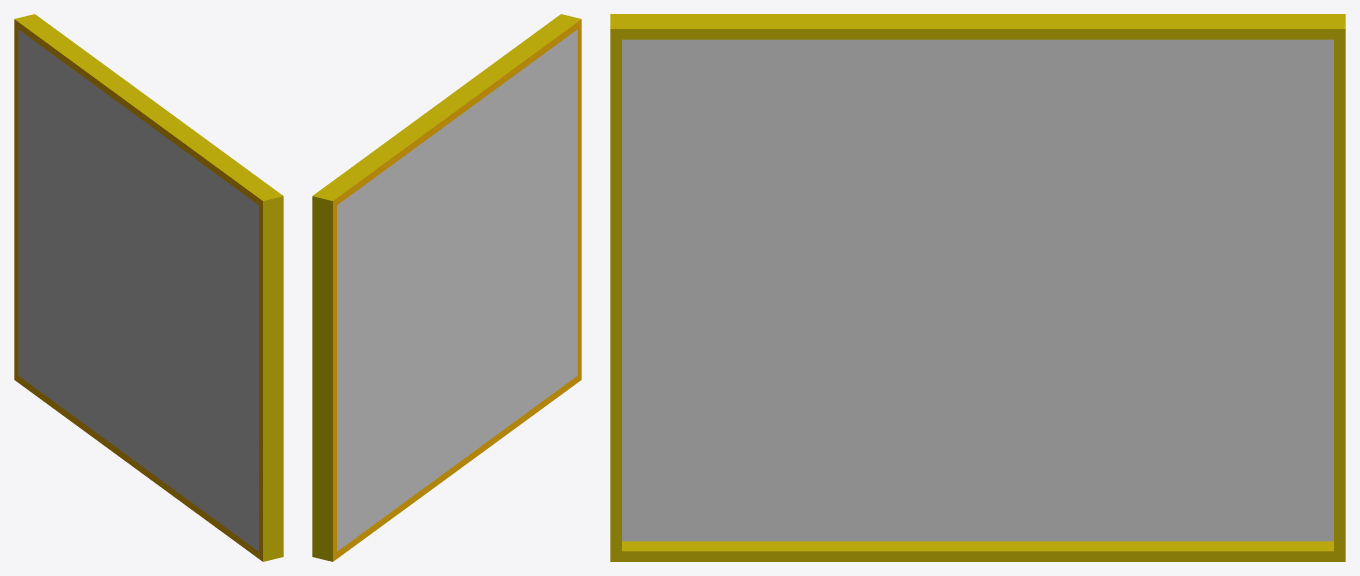
File: window_5x4.dae
3 renders of one model, left to right at view 1: azimuth 30°, elevation 25°; view 2: azimuth 150°, elevation 25°; view 3: azimuth 270°, elevation 25°, orthographic. The views are drawn at different scales.
Parts seen in each view (by area): view 1: Cube; view 2: Cube; view 3: Cube.
Boxes of the visible parts, x1,y1,x2,y2 form: Cube: [14, 14, 283, 561]; Cube: [312, 14, 581, 561]; Cube: [610, 14, 1345, 561].
Bounding box in the file's own units: 0.06 × 1.25 × 1.
